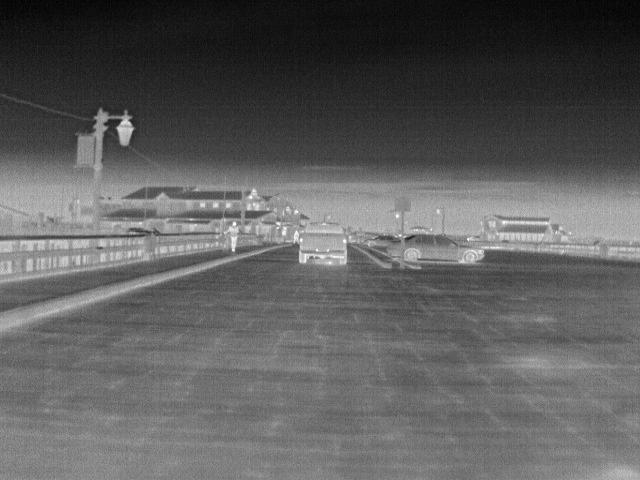car: (406, 232, 485, 266), (297, 221, 350, 267), (364, 232, 401, 250), (385, 239, 402, 260)
person: (223, 220, 240, 252), (289, 228, 301, 244)
